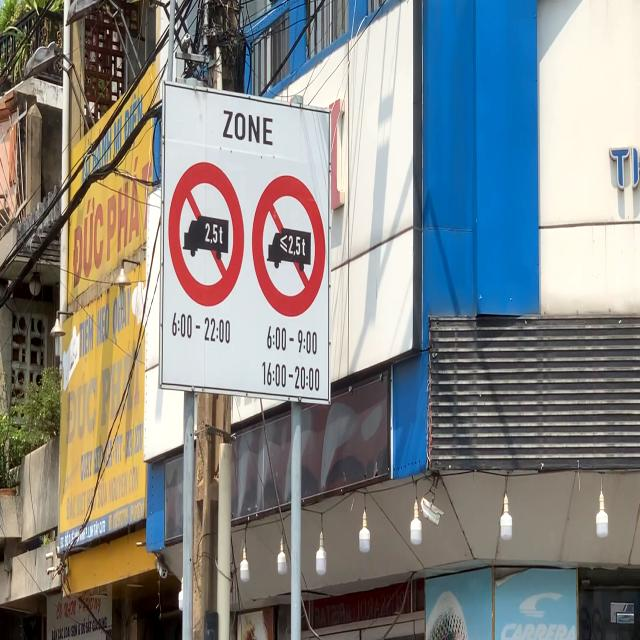P.106b: (168, 161, 245, 308), (251, 175, 326, 318)
